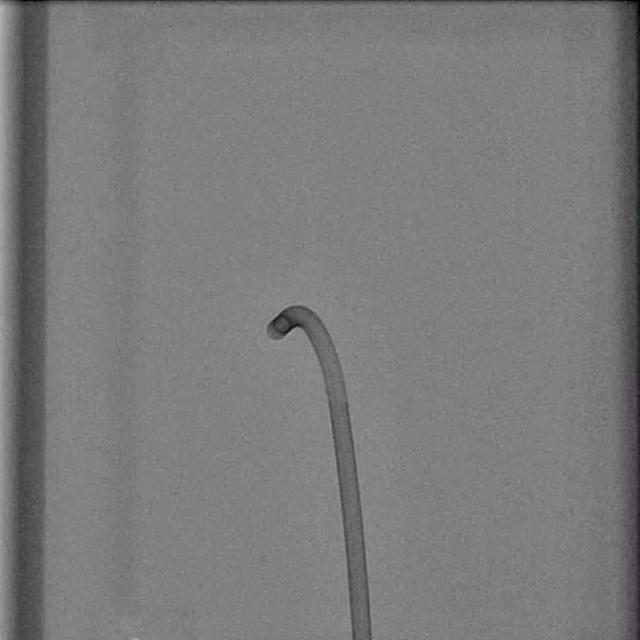bend: (325, 383, 350, 404)
entry: (352, 633, 371, 640)
marker: (271, 312, 296, 336)
tip: (267, 326, 281, 342)
